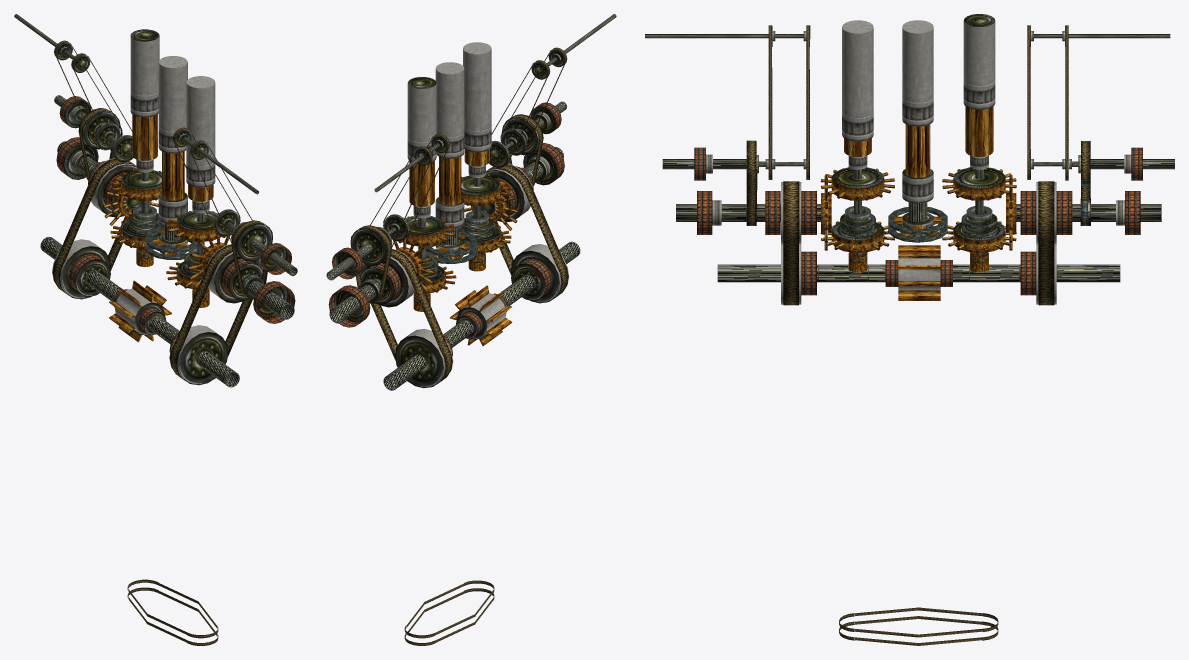
File: DWARF_PALACE_GEARS_STATIC.fbx
The picture shows the model from 3 angles, left to right: view 1: azimuth 30°, elevation 25°; view 2: azimuth 150°, elevation 25°; view 3: azimuth 270°, elevation 25°; orthographic projection. The views are drawn at different scales.
Visible parts, largest first — view 1: DWARF_PALACE_GEARS_STATIC; view 2: DWARF_PALACE_GEARS_STATIC; view 3: DWARF_PALACE_GEARS_STATIC.
Boxes of the visible parts, x1,y1,x2,y2 form: DWARF_PALACE_GEARS_STATIC: [14, 14, 297, 645]; DWARF_PALACE_GEARS_STATIC: [326, 14, 616, 645]; DWARF_PALACE_GEARS_STATIC: [645, 14, 1174, 645].
Size of the model in its own units: 104354 by 617012 by 484014.
Materials: 18 (18 with a texture image).
